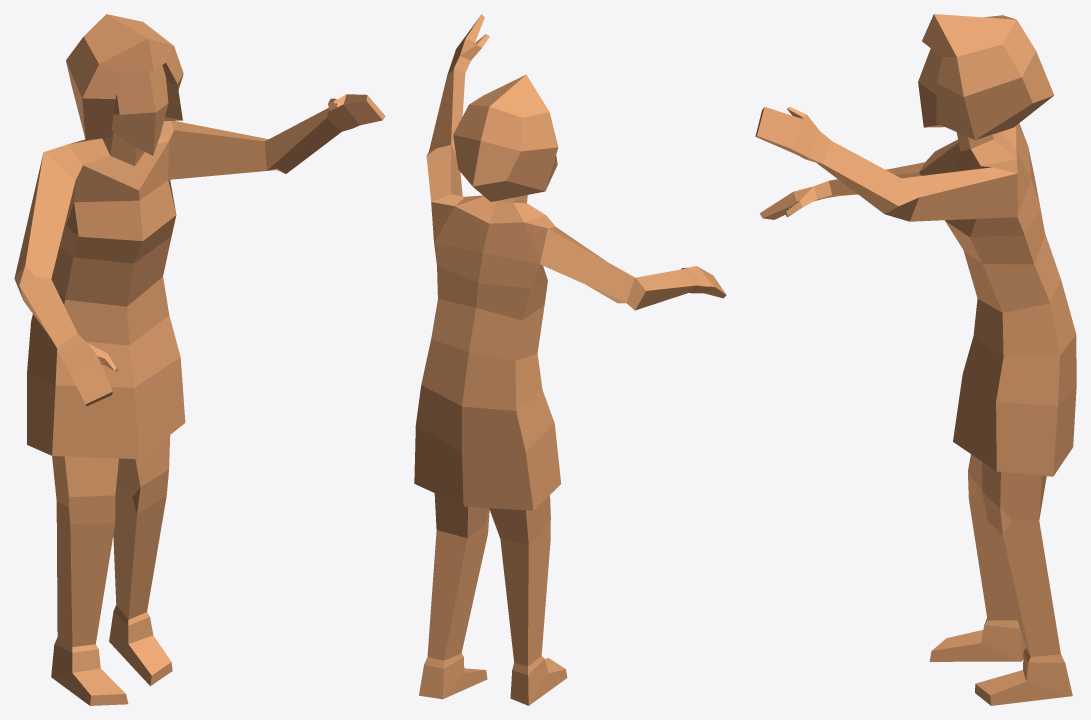
The model's file is woman-passenger.fbx.
3 renders of one model, left to right at view 1: azimuth 30°, elevation 25°; view 2: azimuth 150°, elevation 25°; view 3: azimuth 270°, elevation 25°, orthographic. The views are drawn at different scales.
Parts seen in each view (by area): view 1: woman-ginger_Rig; view 2: woman-ginger_Rig; view 3: woman-ginger_Rig.
Part boxes in pixels (box(x1,y1,x2,y2)): woman-ginger_Rig: box(14, 14, 385, 705); woman-ginger_Rig: box(414, 14, 726, 705); woman-ginger_Rig: box(755, 14, 1076, 705).
Bounding box in the file's own units: 0.8714 × 1.88 × 0.8214.
